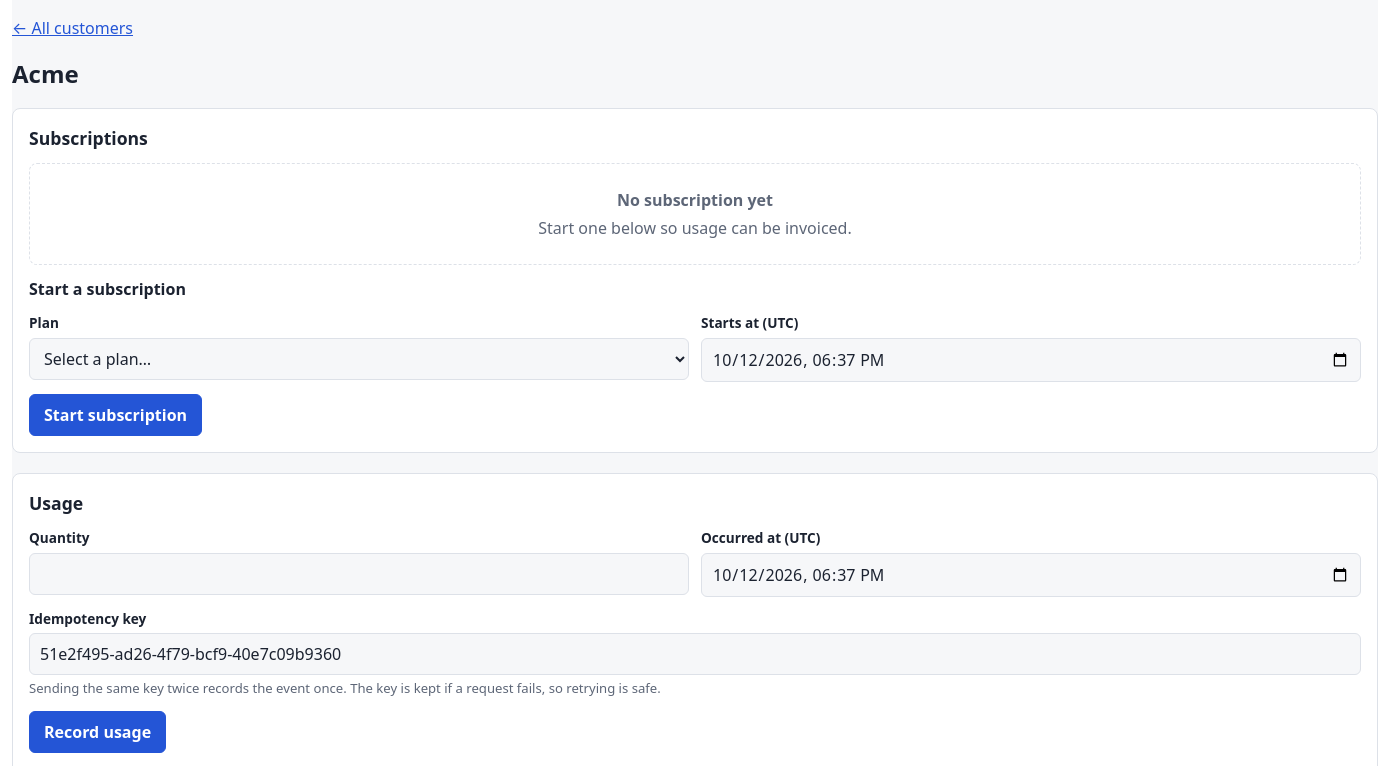
Test case: customer page: usage › ignores a double-click while a request is in flight
Type "5" into the field labelled "Quantity" at (359, 574), box 29,553 -> 689,595
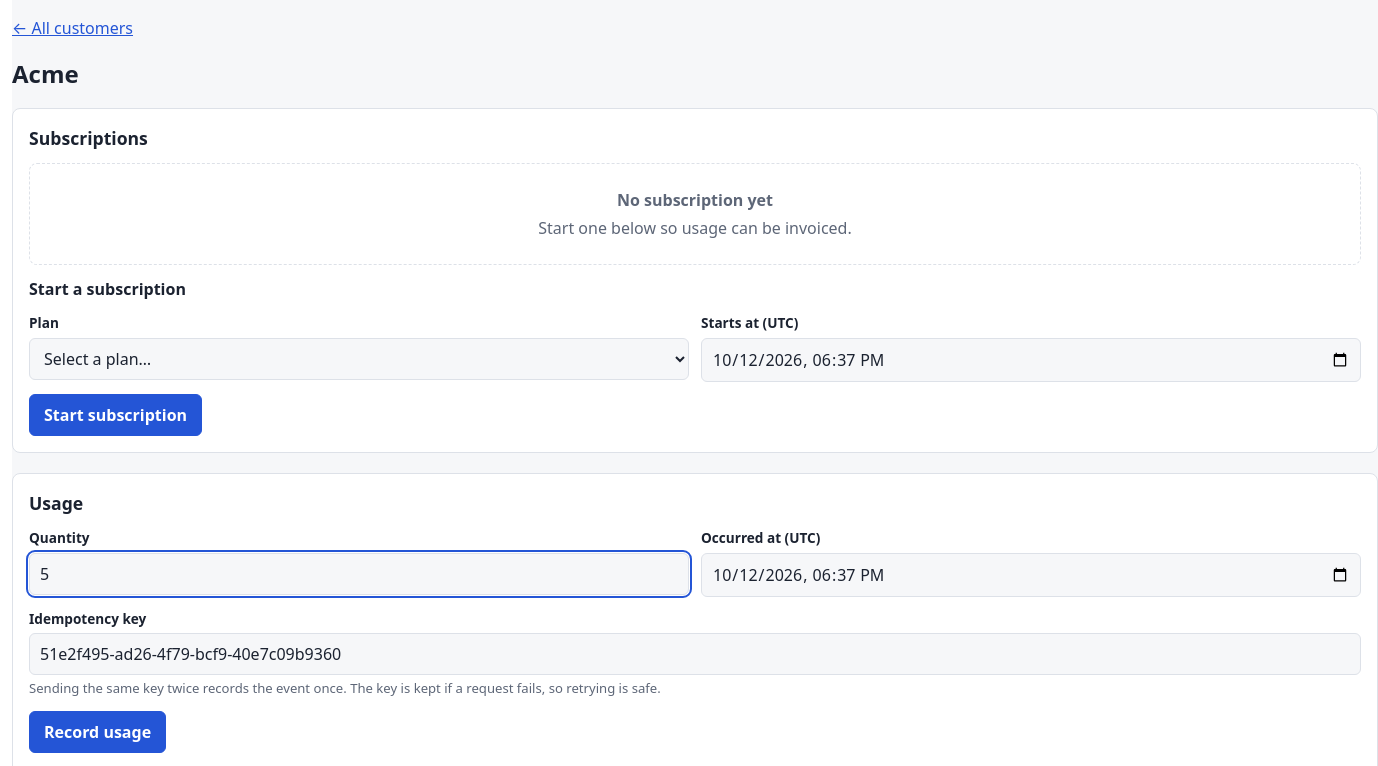
Double-click the button "Record usage" at (98, 732), box 29,711 -> 166,753
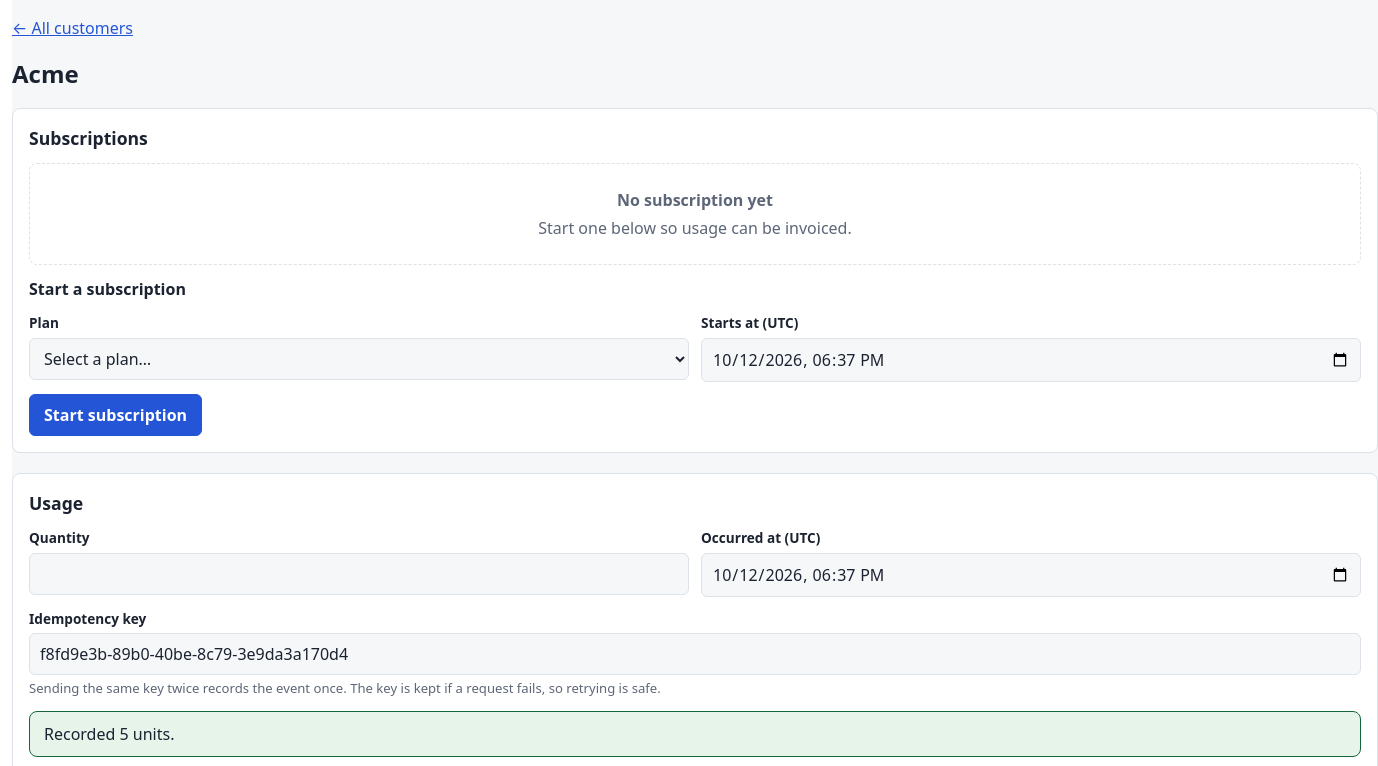
Expected: the text "Recorded 5 units." is shown, 29,711 -> 1361,757
